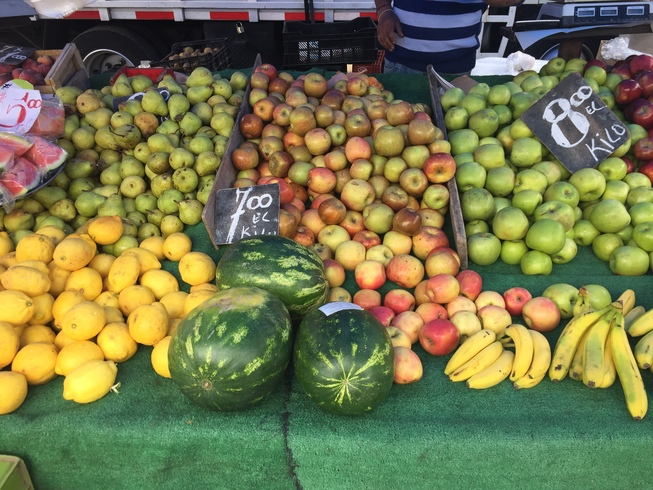precio: (507, 67, 640, 183), (212, 176, 298, 254)
